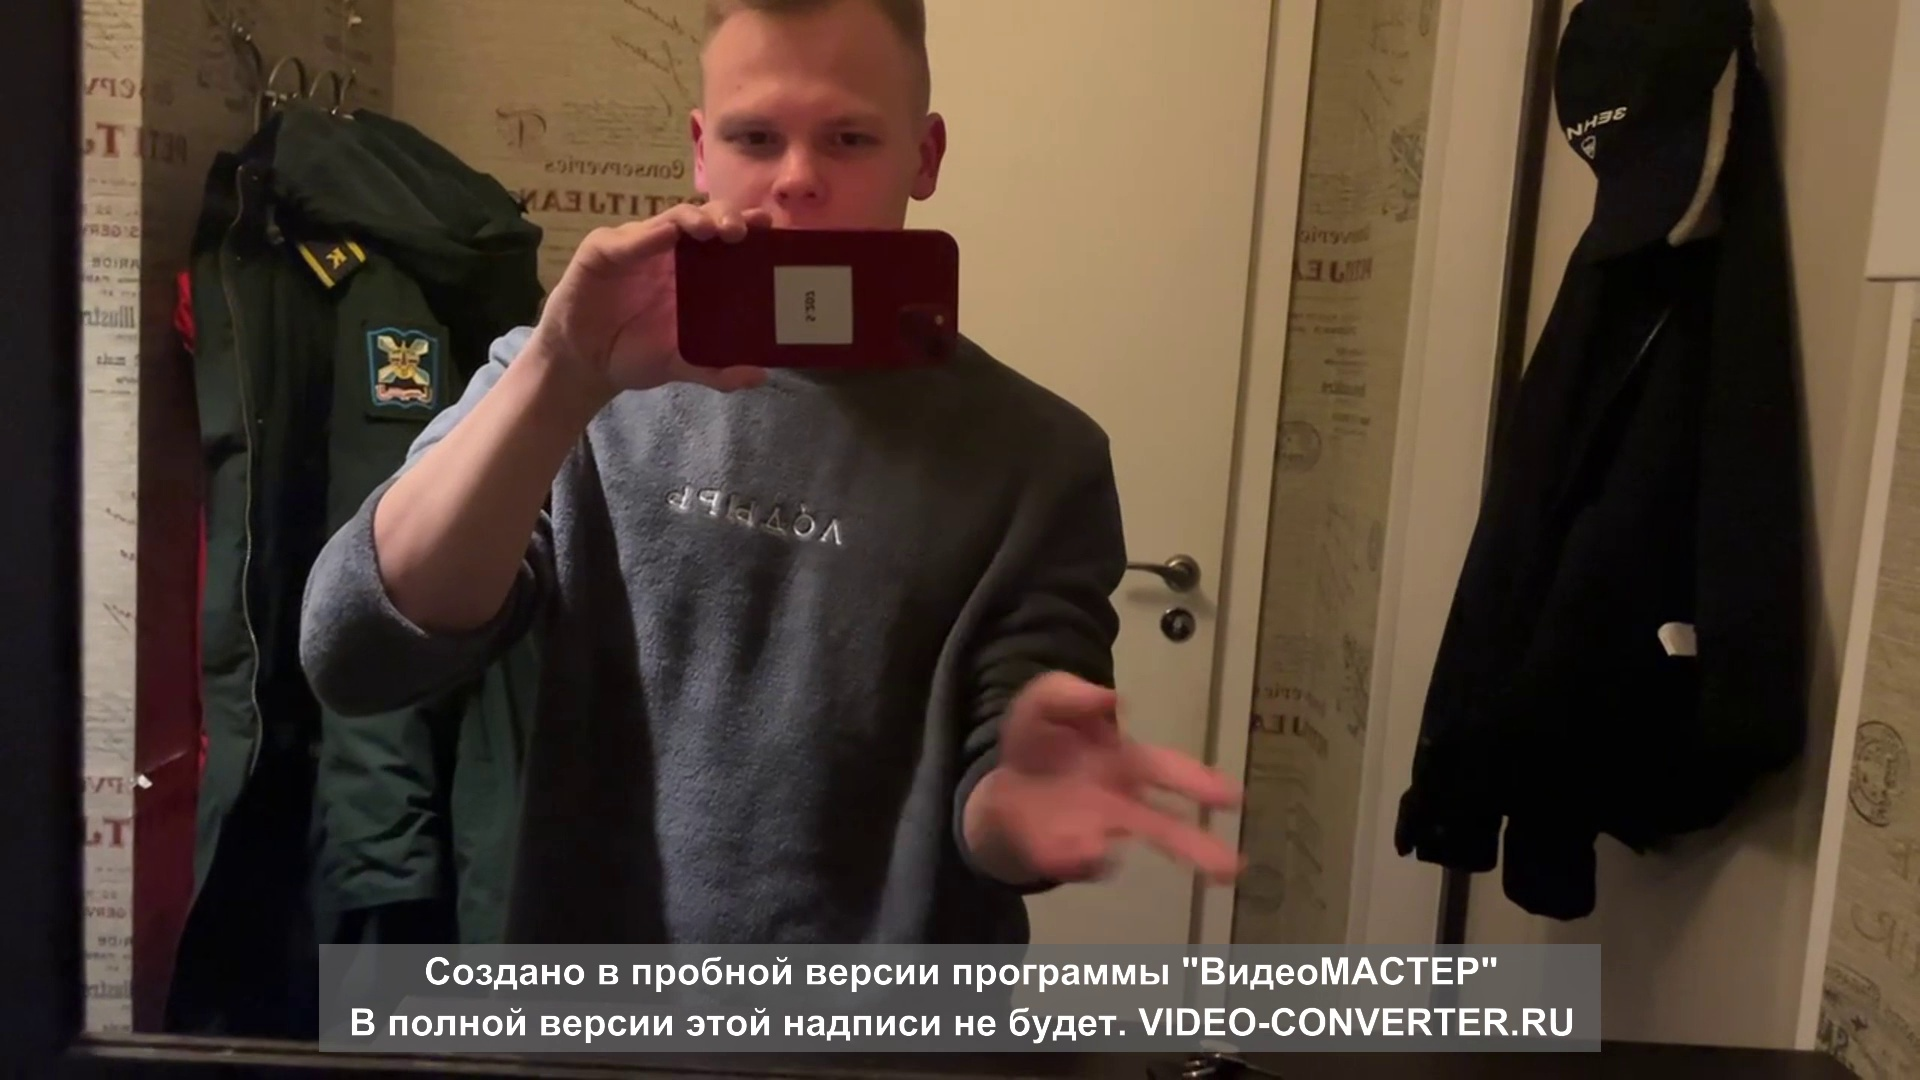Ладонь: (994, 663, 1244, 885)
